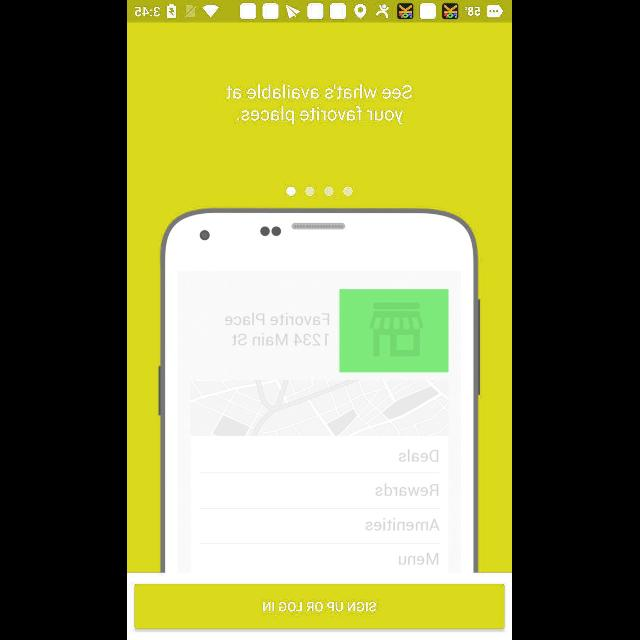image: (159, 208, 481, 572)
pageindicator: (286, 186, 354, 197)
text: (226, 84, 414, 126)
textbutton: (135, 584, 505, 628)
uppertaskbar: (128, 1, 512, 23)
